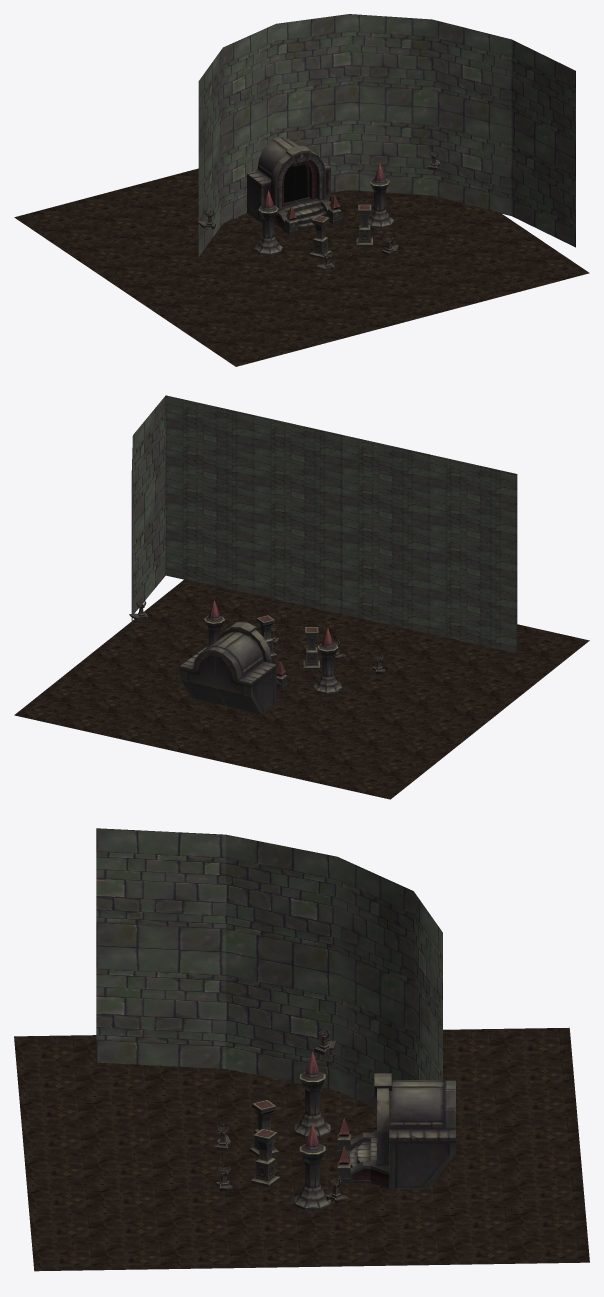
Rendered from bf_home_aveenafireborn.glb.
3 renders of one model, top to bottom at view 1: azimuth 30°, elevation 25°; view 2: azimuth 150°, elevation 25°; view 3: azimuth 270°, elevation 25°, orthographic. The views are drawn at different scales.
Visible parts, largest first — view 1: Floor, Wall_bake, Wall, mobile_entrance, mobile_tower_small (1), mobile_tower_small, mobile_pillar01_b (1), mobile_pillar01_b; view 2: Wall, Floor, mobile_entrance, mobile_tower_small (1), mobile_pillar01_b (1); view 3: Floor, Wall_bake, Wall, mobile_entrance, mobile_tower_small, mobile_tower_small (1), mobile_pillar01_b, mobile_pillar01_b (1).
Boxes of the visible parts, x1,y1,x2,y2 form: Floor: [14, 168, 589, 366]; Wall_bake: [198, 14, 511, 256]; Wall: [511, 39, 575, 247]; mobile_entrance: [247, 137, 341, 234]; mobile_tower_small (1): [254, 190, 282, 255]; mobile_tower_small: [368, 163, 394, 228]; mobile_pillar01_b (1): [309, 215, 331, 258]; mobile_pillar01_b: [356, 204, 372, 246]; Wall: [133, 395, 517, 653]; Floor: [14, 579, 589, 799]; mobile_entrance: [180, 622, 287, 714]; mobile_tower_small (1): [313, 628, 342, 694]; mobile_pillar01_b (1): [303, 627, 320, 669]; Floor: [14, 1027, 589, 1271]; Wall_bake: [226, 834, 442, 1108]; Wall: [96, 828, 225, 1068]; mobile_entrance: [337, 1073, 455, 1189]; mobile_tower_small: [294, 1123, 330, 1210]; mobile_tower_small (1): [294, 1051, 330, 1137]; mobile_pillar01_b: [251, 1129, 280, 1187]; mobile_pillar01_b (1): [249, 1100, 278, 1156].
Bounding box in the file's own units: 32.42 × 17.75 × 31.07.
3 materials, 3 textured.
